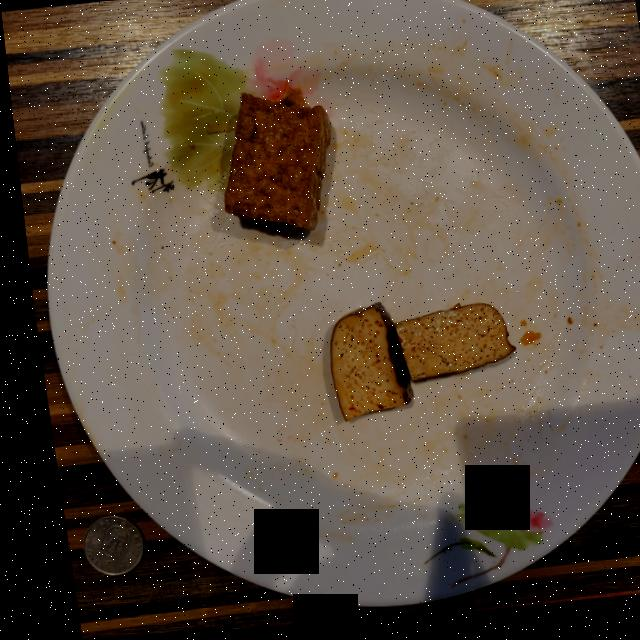coin: (70, 516, 131, 576)
egg tofu: (219, 96, 327, 233)
firm tofu: (321, 307, 506, 425)
